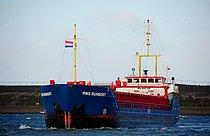Ship: (36, 45, 184, 131)
